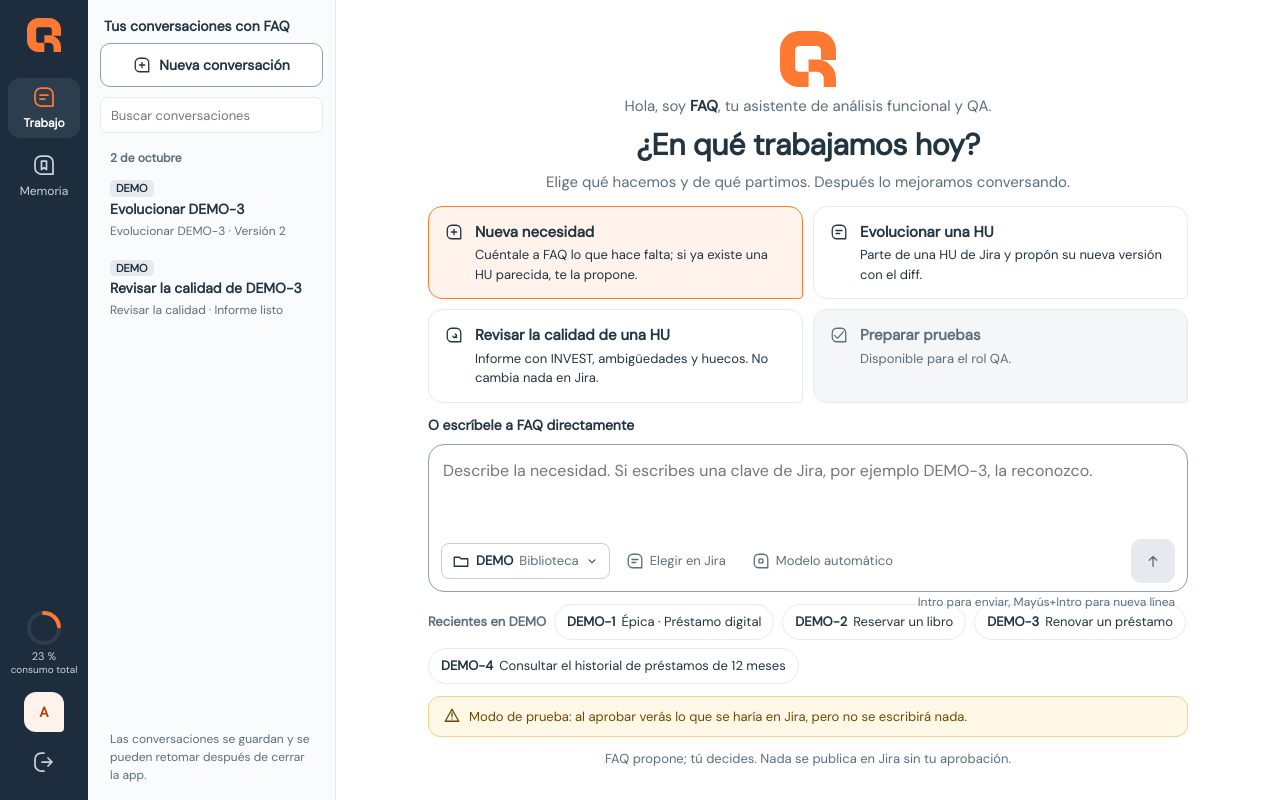
Iterar: huecos (UI.md §4.5, DESIGN-DECISIONS.md §4 bis) › el subtítulo del panel dice «en revisión» y pasa a «generando» mientras se itera
The image size is (1280, 800).
Click the button "DEMO Evolucionar DEMO-3 Evolucionar DEMO-3 · Versión 2".
click(212, 210)  # box [100,171,323,248]
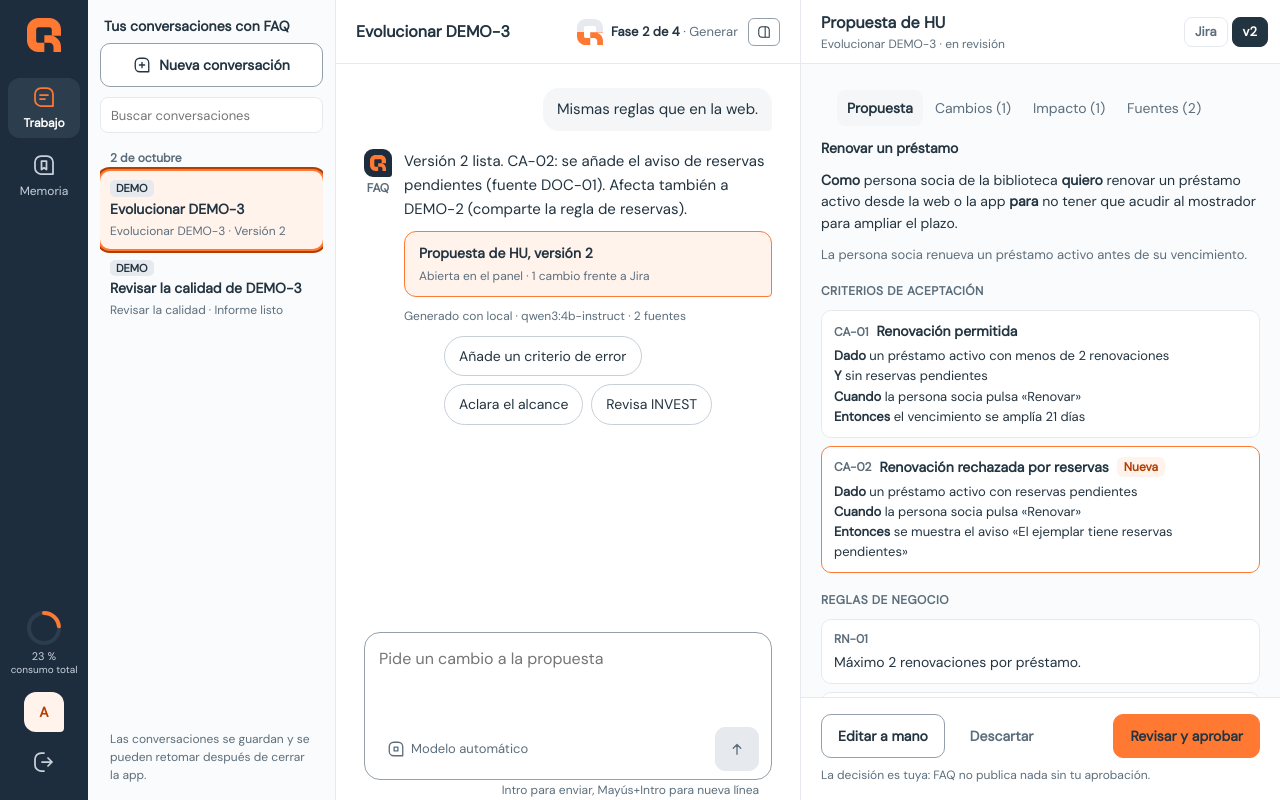
Expected: the text "Evolucionar DEMO-3 · en revisión" is shown, [821,36,1005,52]
Type "Aclara el alcance" into the text box named "Pide un cambio a la propuesta (Intro para enviar, Mayús+Intro para nueva línea)".
click(568, 683); type("Aclara el alcance")  # box [377,645,759,721]
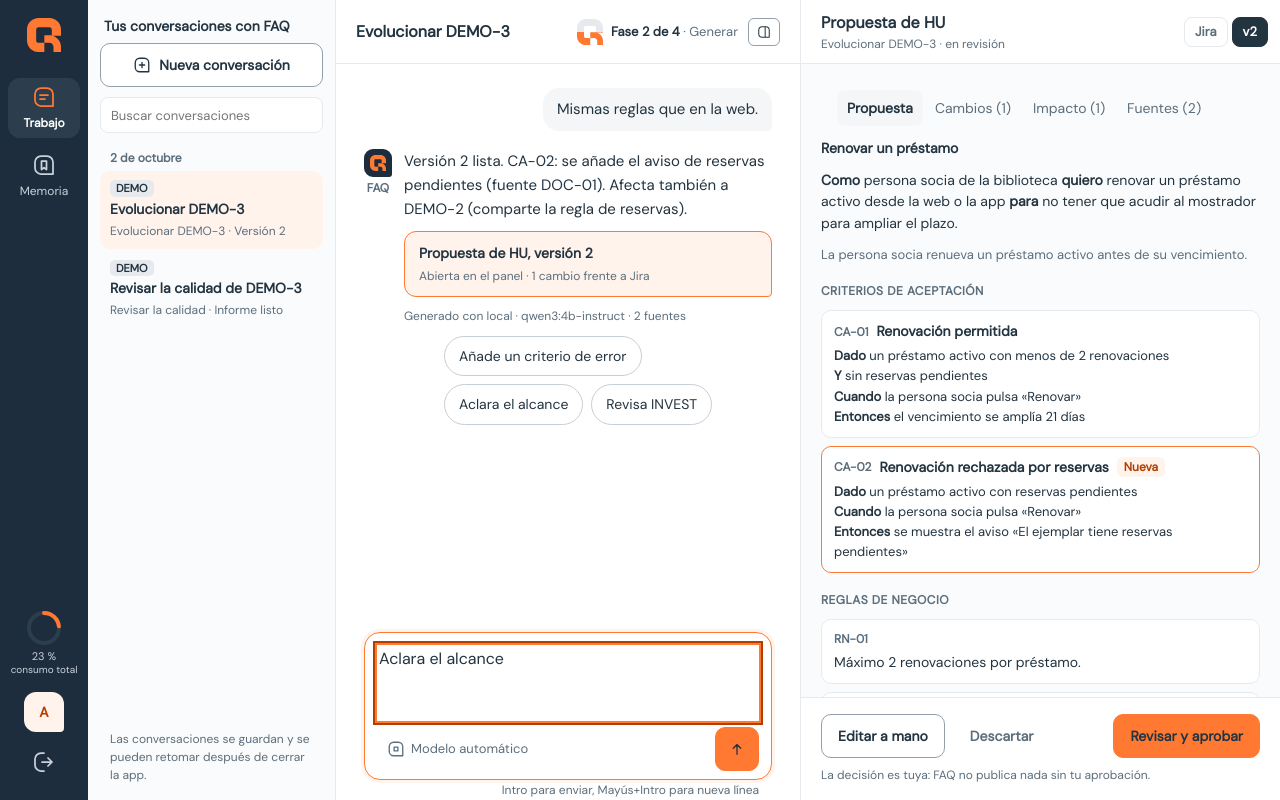
Click the button named "Enviar".
click(737, 749)  # box [715,727,759,771]
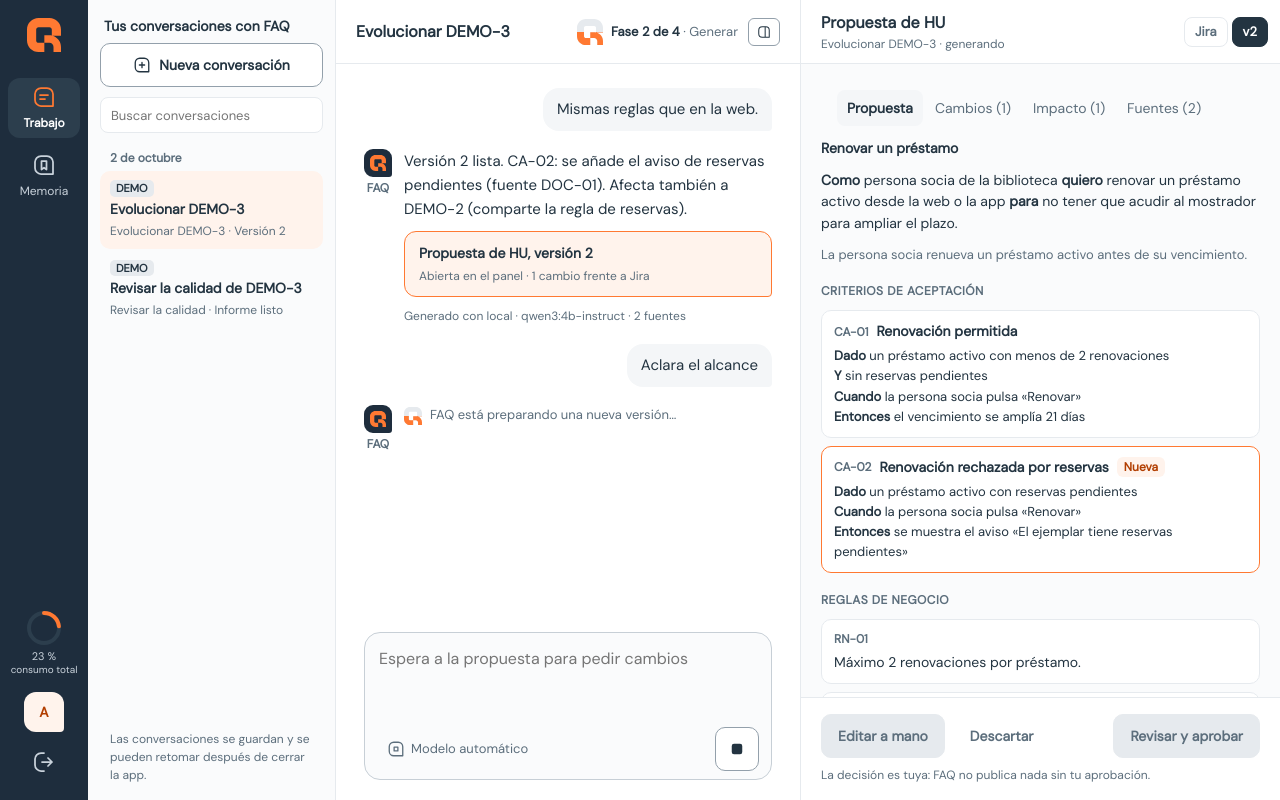
Expected: the text "Evolucionar DEMO-3 · generando" is shown, [821,36,1005,52]
